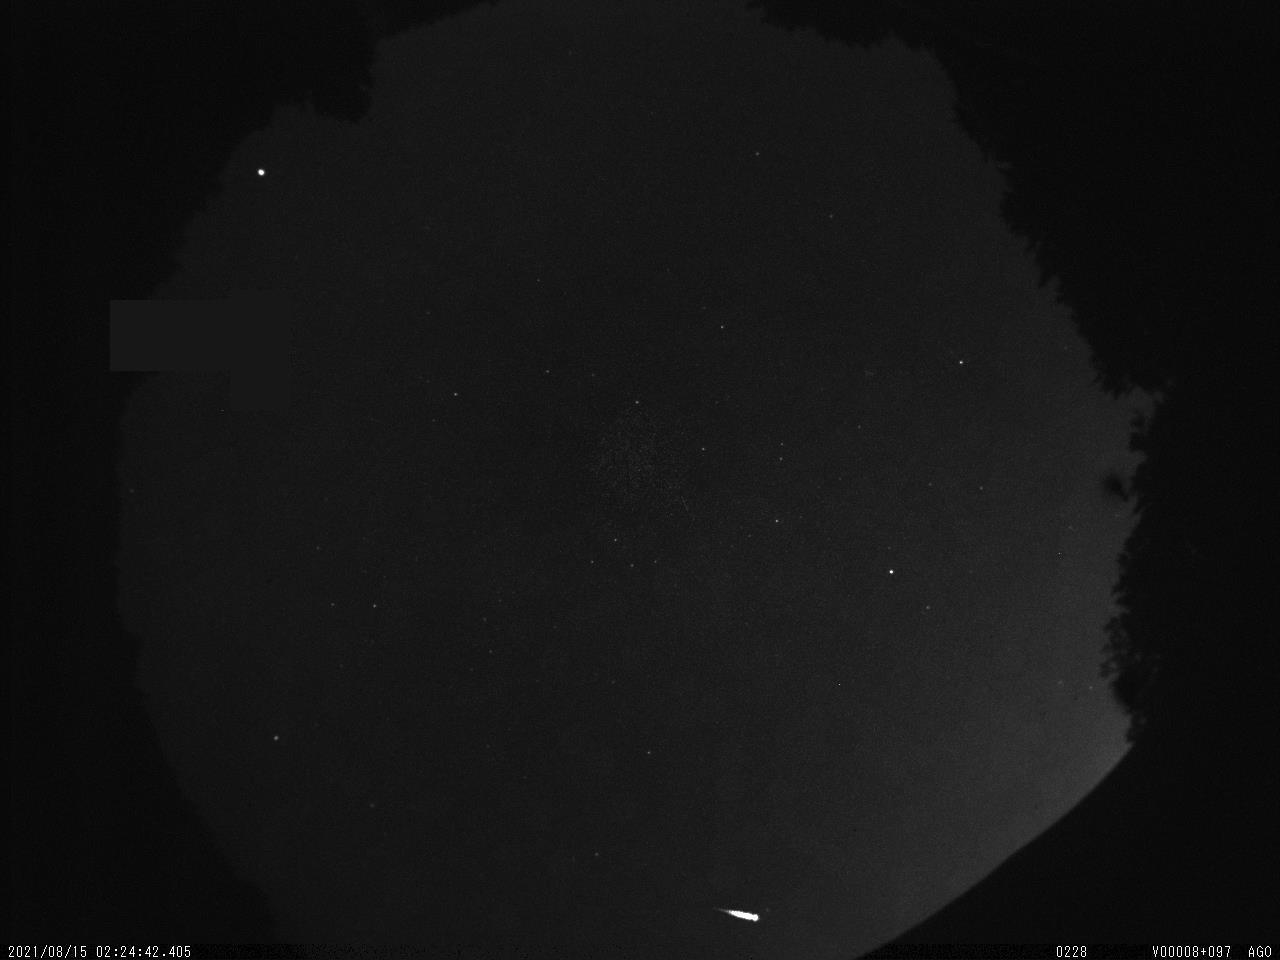meteor: (701, 889, 781, 941)
